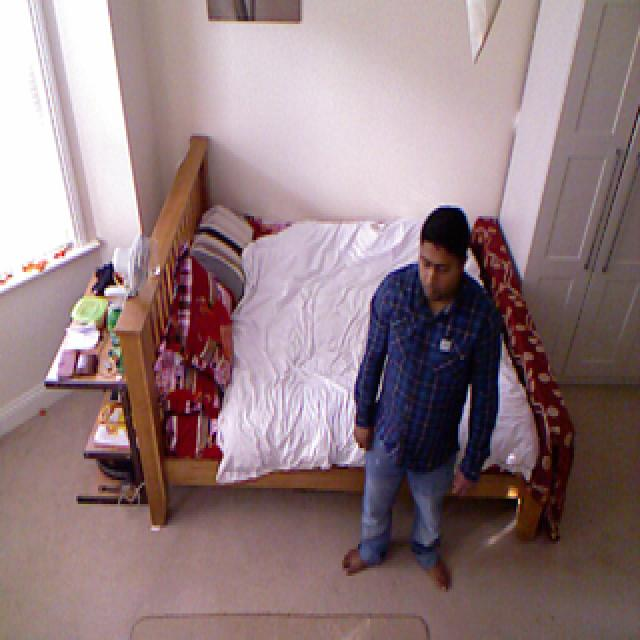standing: (351, 206, 500, 572)
